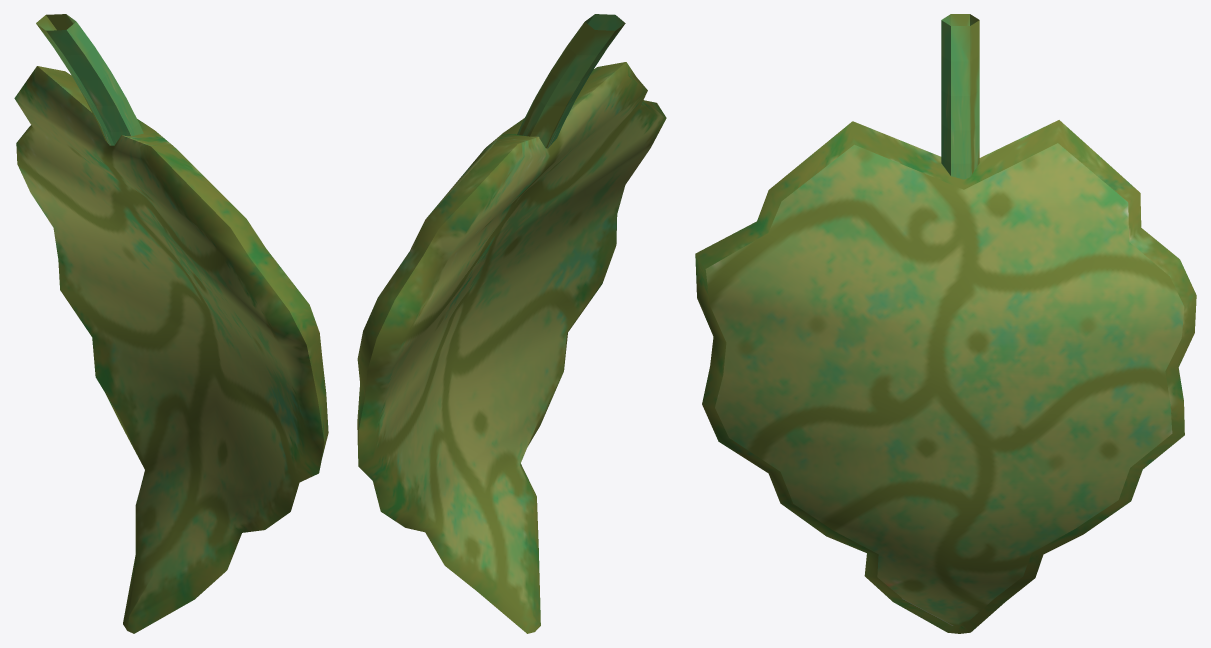
File: Tree.fbx_Leaves.fbx
3 renders of one model, left to right at view 1: azimuth 30°, elevation 25°; view 2: azimuth 150°, elevation 25°; view 3: azimuth 270°, elevation 25°, orthographic. The views are drawn at different scales.
Visible parts, largest first — view 1: BigLeave; view 2: BigLeave; view 3: BigLeave.
Boxes of the visible parts, bbox=[...] form: BigLeave: bbox=[14, 14, 328, 633]; BigLeave: bbox=[357, 14, 666, 633]; BigLeave: bbox=[695, 14, 1196, 633].
Bounding box in the file's own units: 399 × 1199 × 935.
